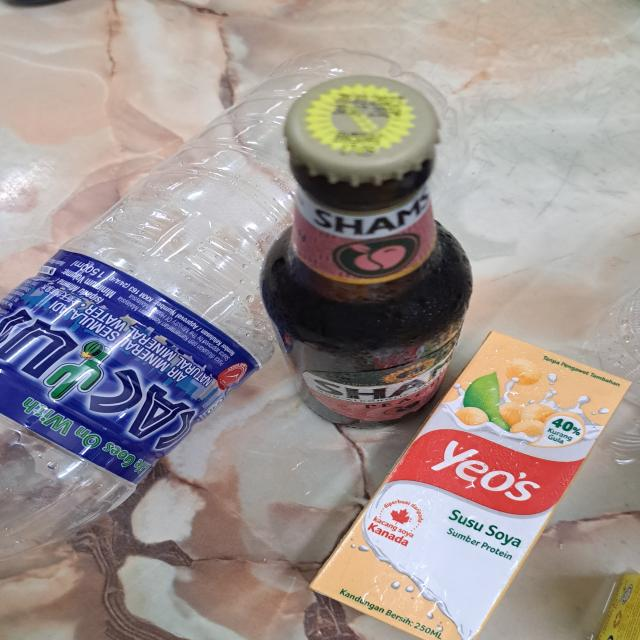drink carton: (314, 327, 628, 640)
glass bottle: (261, 80, 476, 424)
plastic bottle: (0, 45, 466, 542)
